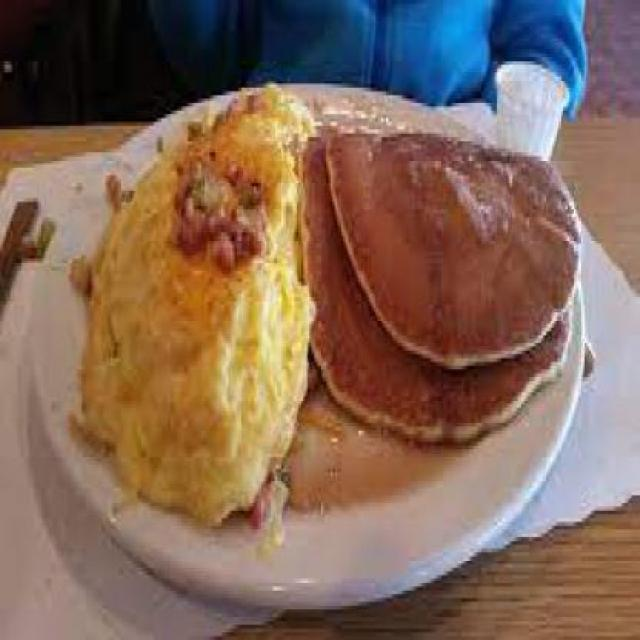omelette: (90, 79, 305, 515)
pancakes: (305, 87, 580, 435)
